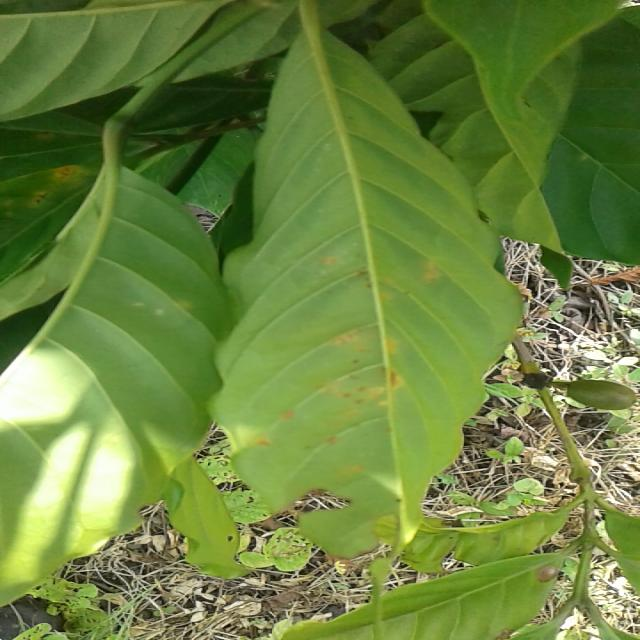Enfermedad-Roya: (209, 0, 518, 556)
